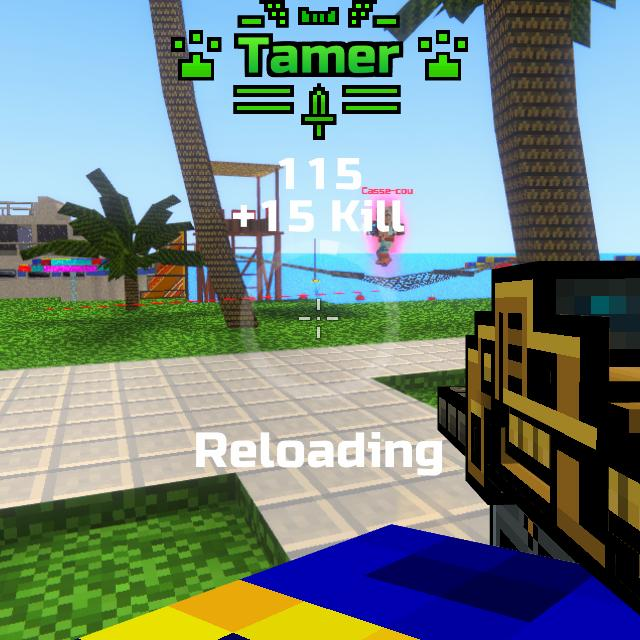Enemy: (366, 203, 403, 267)
